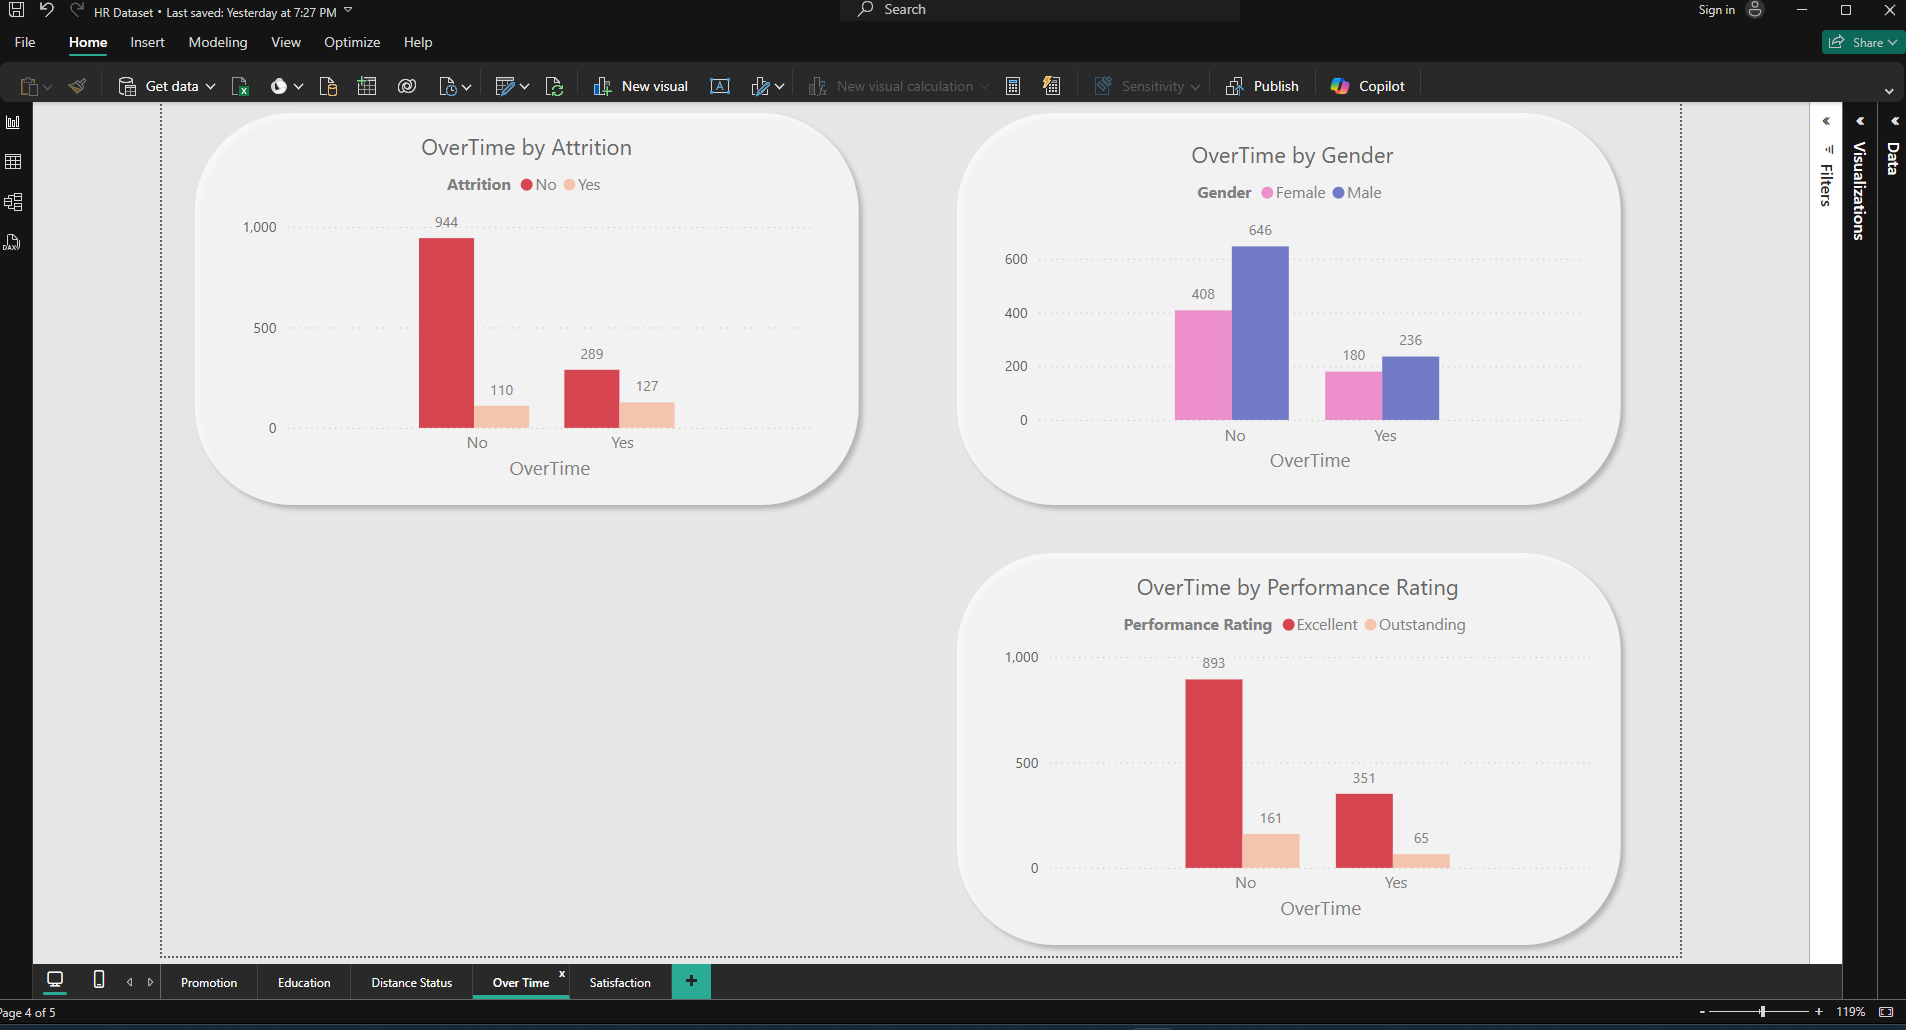

Layout of this report page (visuals, bound fields, positions):
{"tool":"powerbi","page":{"name":"Over Time ","canvas":[1280,720],"ordinal":3},"visuals":[{"type":"shape","box":[661,0,577.8,348.8],"z":0},{"type":"clusteredColumnChart","title":"OverTime by Gender","fields":{"Category":["HR-Employee-Attrition.OverTime"],"Series":["HR-Employee-Attrition.Gender"],"Y":["new measures.Total Emp"]},"box":[704.8,31.3,496.4,286.2],"z":1000},{"type":"shape","box":[661,371.2,577.8,348.8],"z":2000},{"type":"clusteredColumnChart","title":"OverTime by Performance Rating","fields":{"Category":["HR-Employee-Attrition.OverTime"],"Series":["HR-Employee-Attrition.Performance Rating"],"Y":["new measures.Total Emp"]},"box":[704.8,395.3,505.3,299.6],"z":3000},{"type":"shape","box":[18.8,0,577.8,348.8],"z":4000},{"type":"clusteredColumnChart","title":"OverTime by Attrition","fields":{"Category":["HR-Employee-Attrition.OverTime"],"Series":["HR-Employee-Attrition.Attrition"],"Y":["new measures.Total Emp"]},"box":[62.6,24.1,490.1,299.6],"z":5000}]}

Visuals, with their boxes on the page's 1280x720 design canvas (x1, y1, x2, y2). These are canvas units, not pixel positions in the 1906x1030 screenshot, which may show the page scaled, cropped or inside an application window:
shape: box=[661, 0, 1239, 349]
"OverTime by Gender" clusteredColumnChart: box=[705, 31, 1201, 318]
shape: box=[661, 371, 1239, 720]
"OverTime by Performance Rating" clusteredColumnChart: box=[705, 395, 1210, 695]
shape: box=[19, 0, 597, 349]
"OverTime by Attrition" clusteredColumnChart: box=[63, 24, 553, 324]
